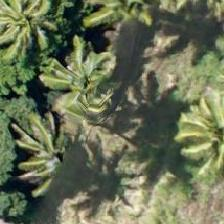coconut_tree: (37, 45, 127, 135), (7, 120, 97, 210), (0, 0, 69, 68), (176, 98, 223, 188), (79, 0, 169, 45)
